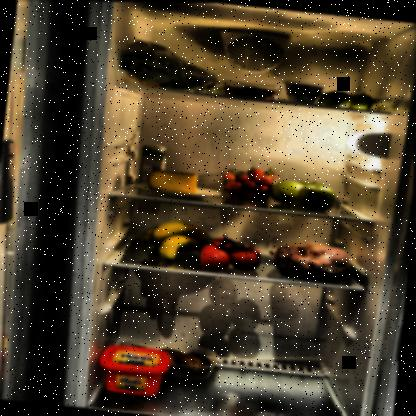apple: (273, 175, 341, 213)
banana: (135, 216, 217, 267)
butter: (97, 343, 176, 396)
cheese: (146, 167, 203, 196)
chicken: (268, 234, 360, 284)
heavy_cream: (137, 141, 168, 187)
lime: (318, 87, 381, 111)
potato: (157, 342, 222, 377)
shrimp: (224, 82, 283, 101)
spinach: (113, 34, 229, 96)
strawberries: (216, 164, 280, 204)
tomato: (197, 231, 266, 275)
